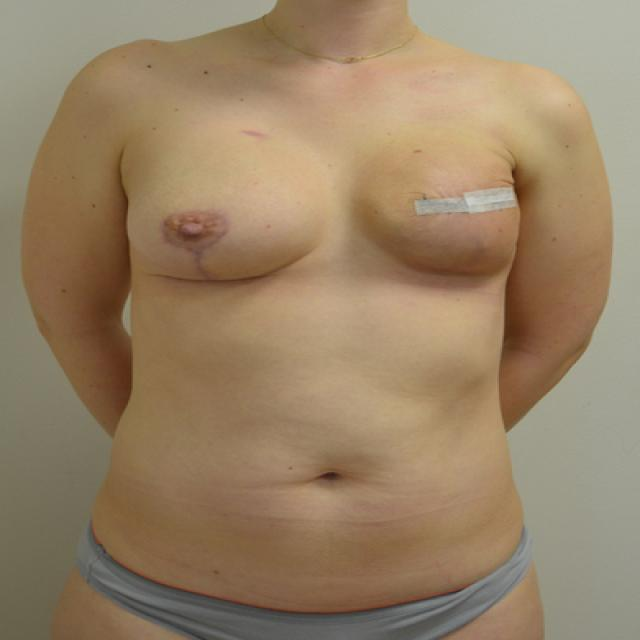Seno herido: (119, 164, 329, 293), (344, 164, 526, 289)
